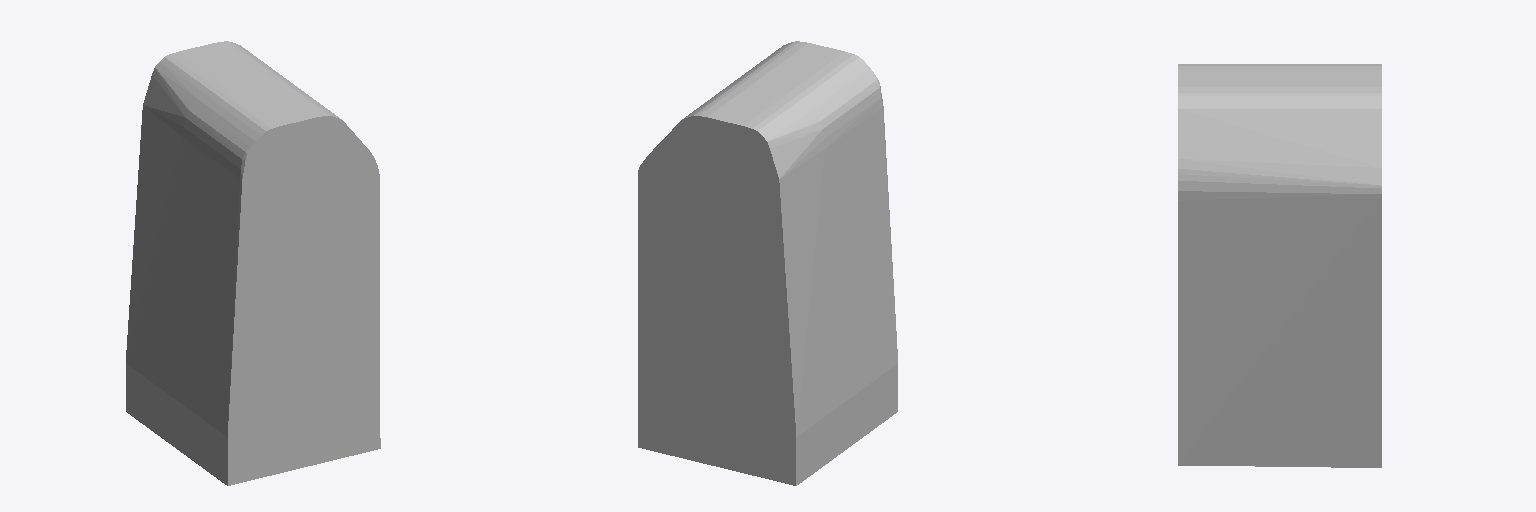
The model's file is Toaster_24_collision_2.obj.
3 renders of one model, left to right at view 1: azimuth 30°, elevation 25°; view 2: azimuth 150°, elevation 25°; view 3: azimuth 270°, elevation 25°, orthographic.
Size of the model in its own units: 0.0633 by 0.1322 by 0.0703.